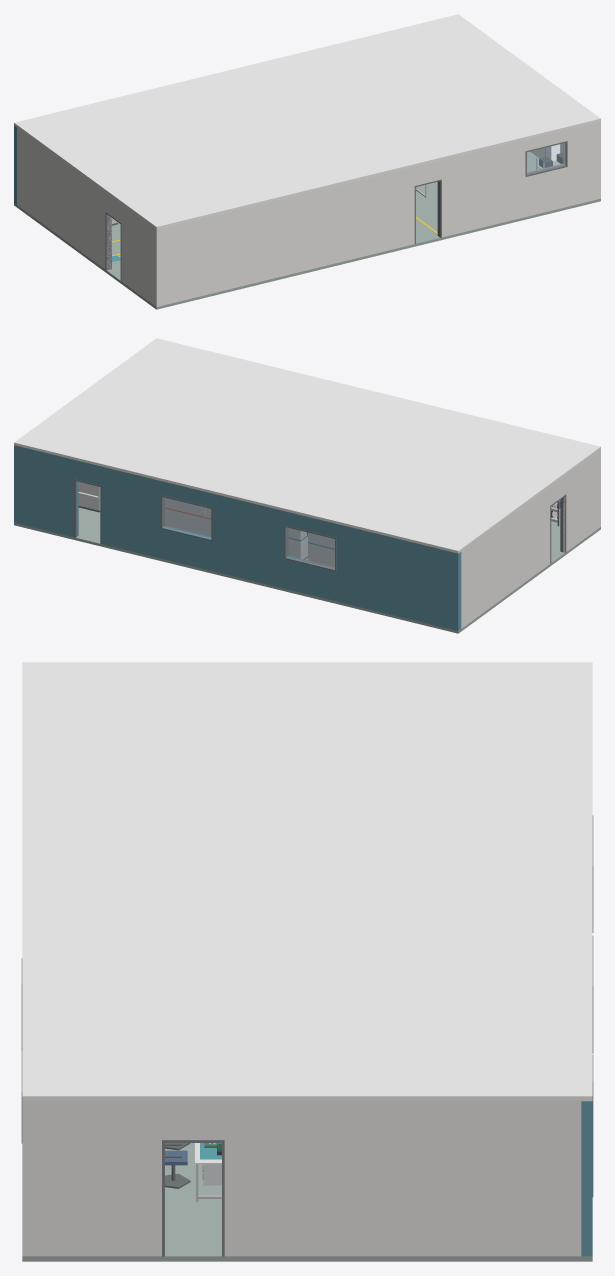
The picture shows the model from 3 angles, top to bottom: view 1: azimuth 30°, elevation 25°; view 2: azimuth 150°, elevation 25°; view 3: azimuth 270°, elevation 25°; orthographic projection. The views are drawn at different scales.
Visible parts, largest first — view 1: Ceiling, Wall_S, Wall_W, Floor, Frames_S, Frames_W; view 2: Ceiling, Wall_N, Wall_W, Frames_N, Floor, M06_reflow, M04_pnp, M08_unloader, M05_pnp, Frames_W; view 3: Ceiling, Wall_E, Floor, Wall_N, Wall_S, ESDBench_06, Frames_E.
Boxes of the visible parts, x1=… form: Ceiling: x1=14, y1=14, x2=600, y2=229; Wall_S: x1=153, y1=121, x2=600, y2=306; Wall_W: x1=17, y1=128, x2=153, y2=304; Floor: x1=14, y1=151, x2=600, y2=309; Frames_S: x1=414, y1=141, x2=567, y2=243; Frames_W: x1=105, y1=212, x2=121, y2=281; Ceiling: x1=14, y1=338, x2=600, y2=553; Wall_N: x1=14, y1=445, x2=461, y2=630; Wall_W: x1=461, y1=452, x2=597, y2=628; Frames_N: x1=74, y1=479, x2=336, y2=571; Floor: x1=14, y1=507, x2=600, y2=633; M06_reflow: x1=165, y1=498, x2=211, y2=536; M04_pnp: x1=308, y1=532, x2=334, y2=566; M08_unloader: x1=78, y1=482, x2=100, y2=512; M05_pnp: x1=288, y1=528, x2=307, y2=559; Frames_W: x1=550, y1=494, x2=566, y2=563; Ceiling: x1=22, y1=662, x2=592, y2=1101; Wall_E: x1=33, y1=1101, x2=581, y2=1256; Floor: x1=22, y1=1143, x2=592, y2=1261; Wall_N: x1=581, y1=1101, x2=592, y2=1256; Wall_S: x1=22, y1=1101, x2=33, y2=1256; ESDBench_06: x1=195, y1=1143, x2=221, y2=1201; Frames_E: x1=162, y1=1140, x2=224, y2=1256.
Size of the model in its own units: 18.02 by 3.2 by 10.02.
